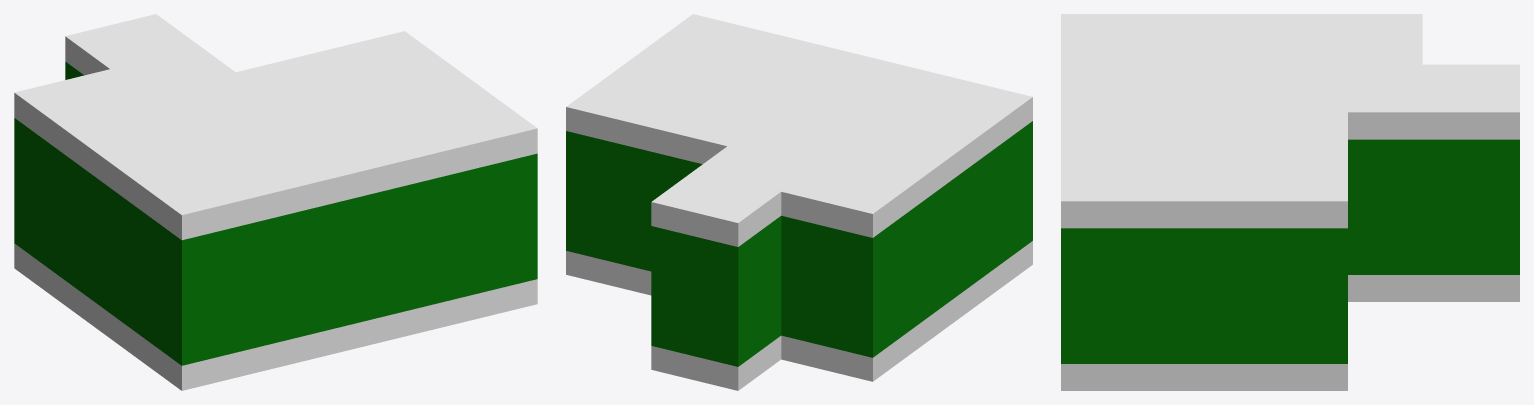
File: basement fight 3-29.fbx
The picture shows the model from 3 angles, left to right: view 1: azimuth 30°, elevation 25°; view 2: azimuth 150°, elevation 25°; view 3: azimuth 270°, elevation 25°; orthographic projection. The views are drawn at different scales.
Parts seen in each view (by area): view 1: roof_2, outer walls_2, floor_2; view 2: roof_2, outer walls_2, floor_2; view 3: roof_2, outer walls_2, floor_2.
Part boxes in pixels (<box>): roof_2: <box>14,14,537,240</box>; outer walls_2: <box>14,61,537,365</box>; floor_2: <box>14,243,537,390</box>; roof_2: <box>566,14,1032,246</box>; outer walls_2: <box>566,121,1032,366</box>; floor_2: <box>566,241,1032,390</box>; roof_2: <box>1061,14,1519,228</box>; outer walls_2: <box>1061,139,1519,363</box>; floor_2: <box>1061,275,1519,390</box>.
Bounding box in the file's own units: 12.77 × 6.02 × 13.21.
